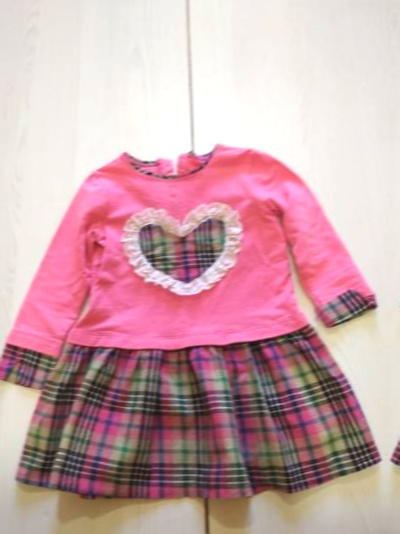Dress: (14, 125, 385, 518), (393, 132, 400, 526)
